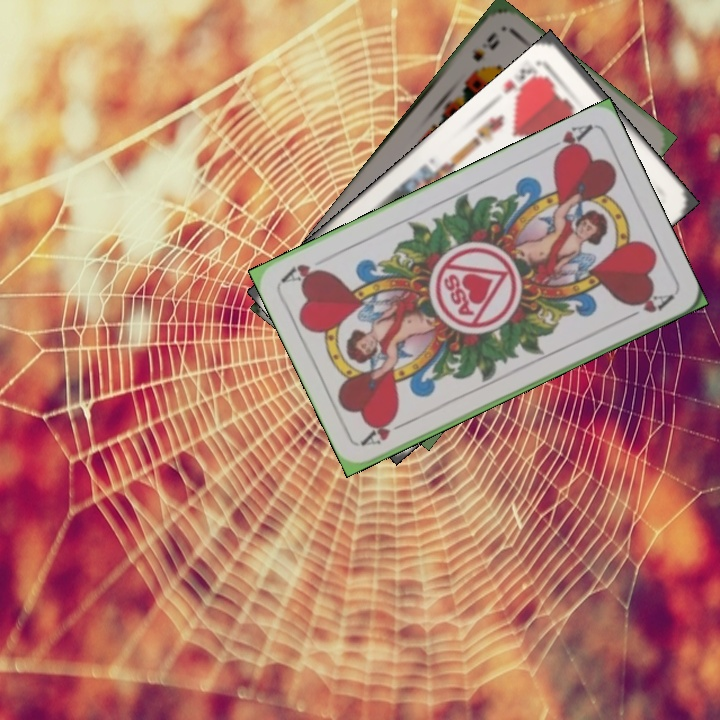HA: (540, 120, 595, 163), (358, 414, 414, 449)
HK: (499, 56, 551, 107)
S9: (467, 28, 503, 65)
